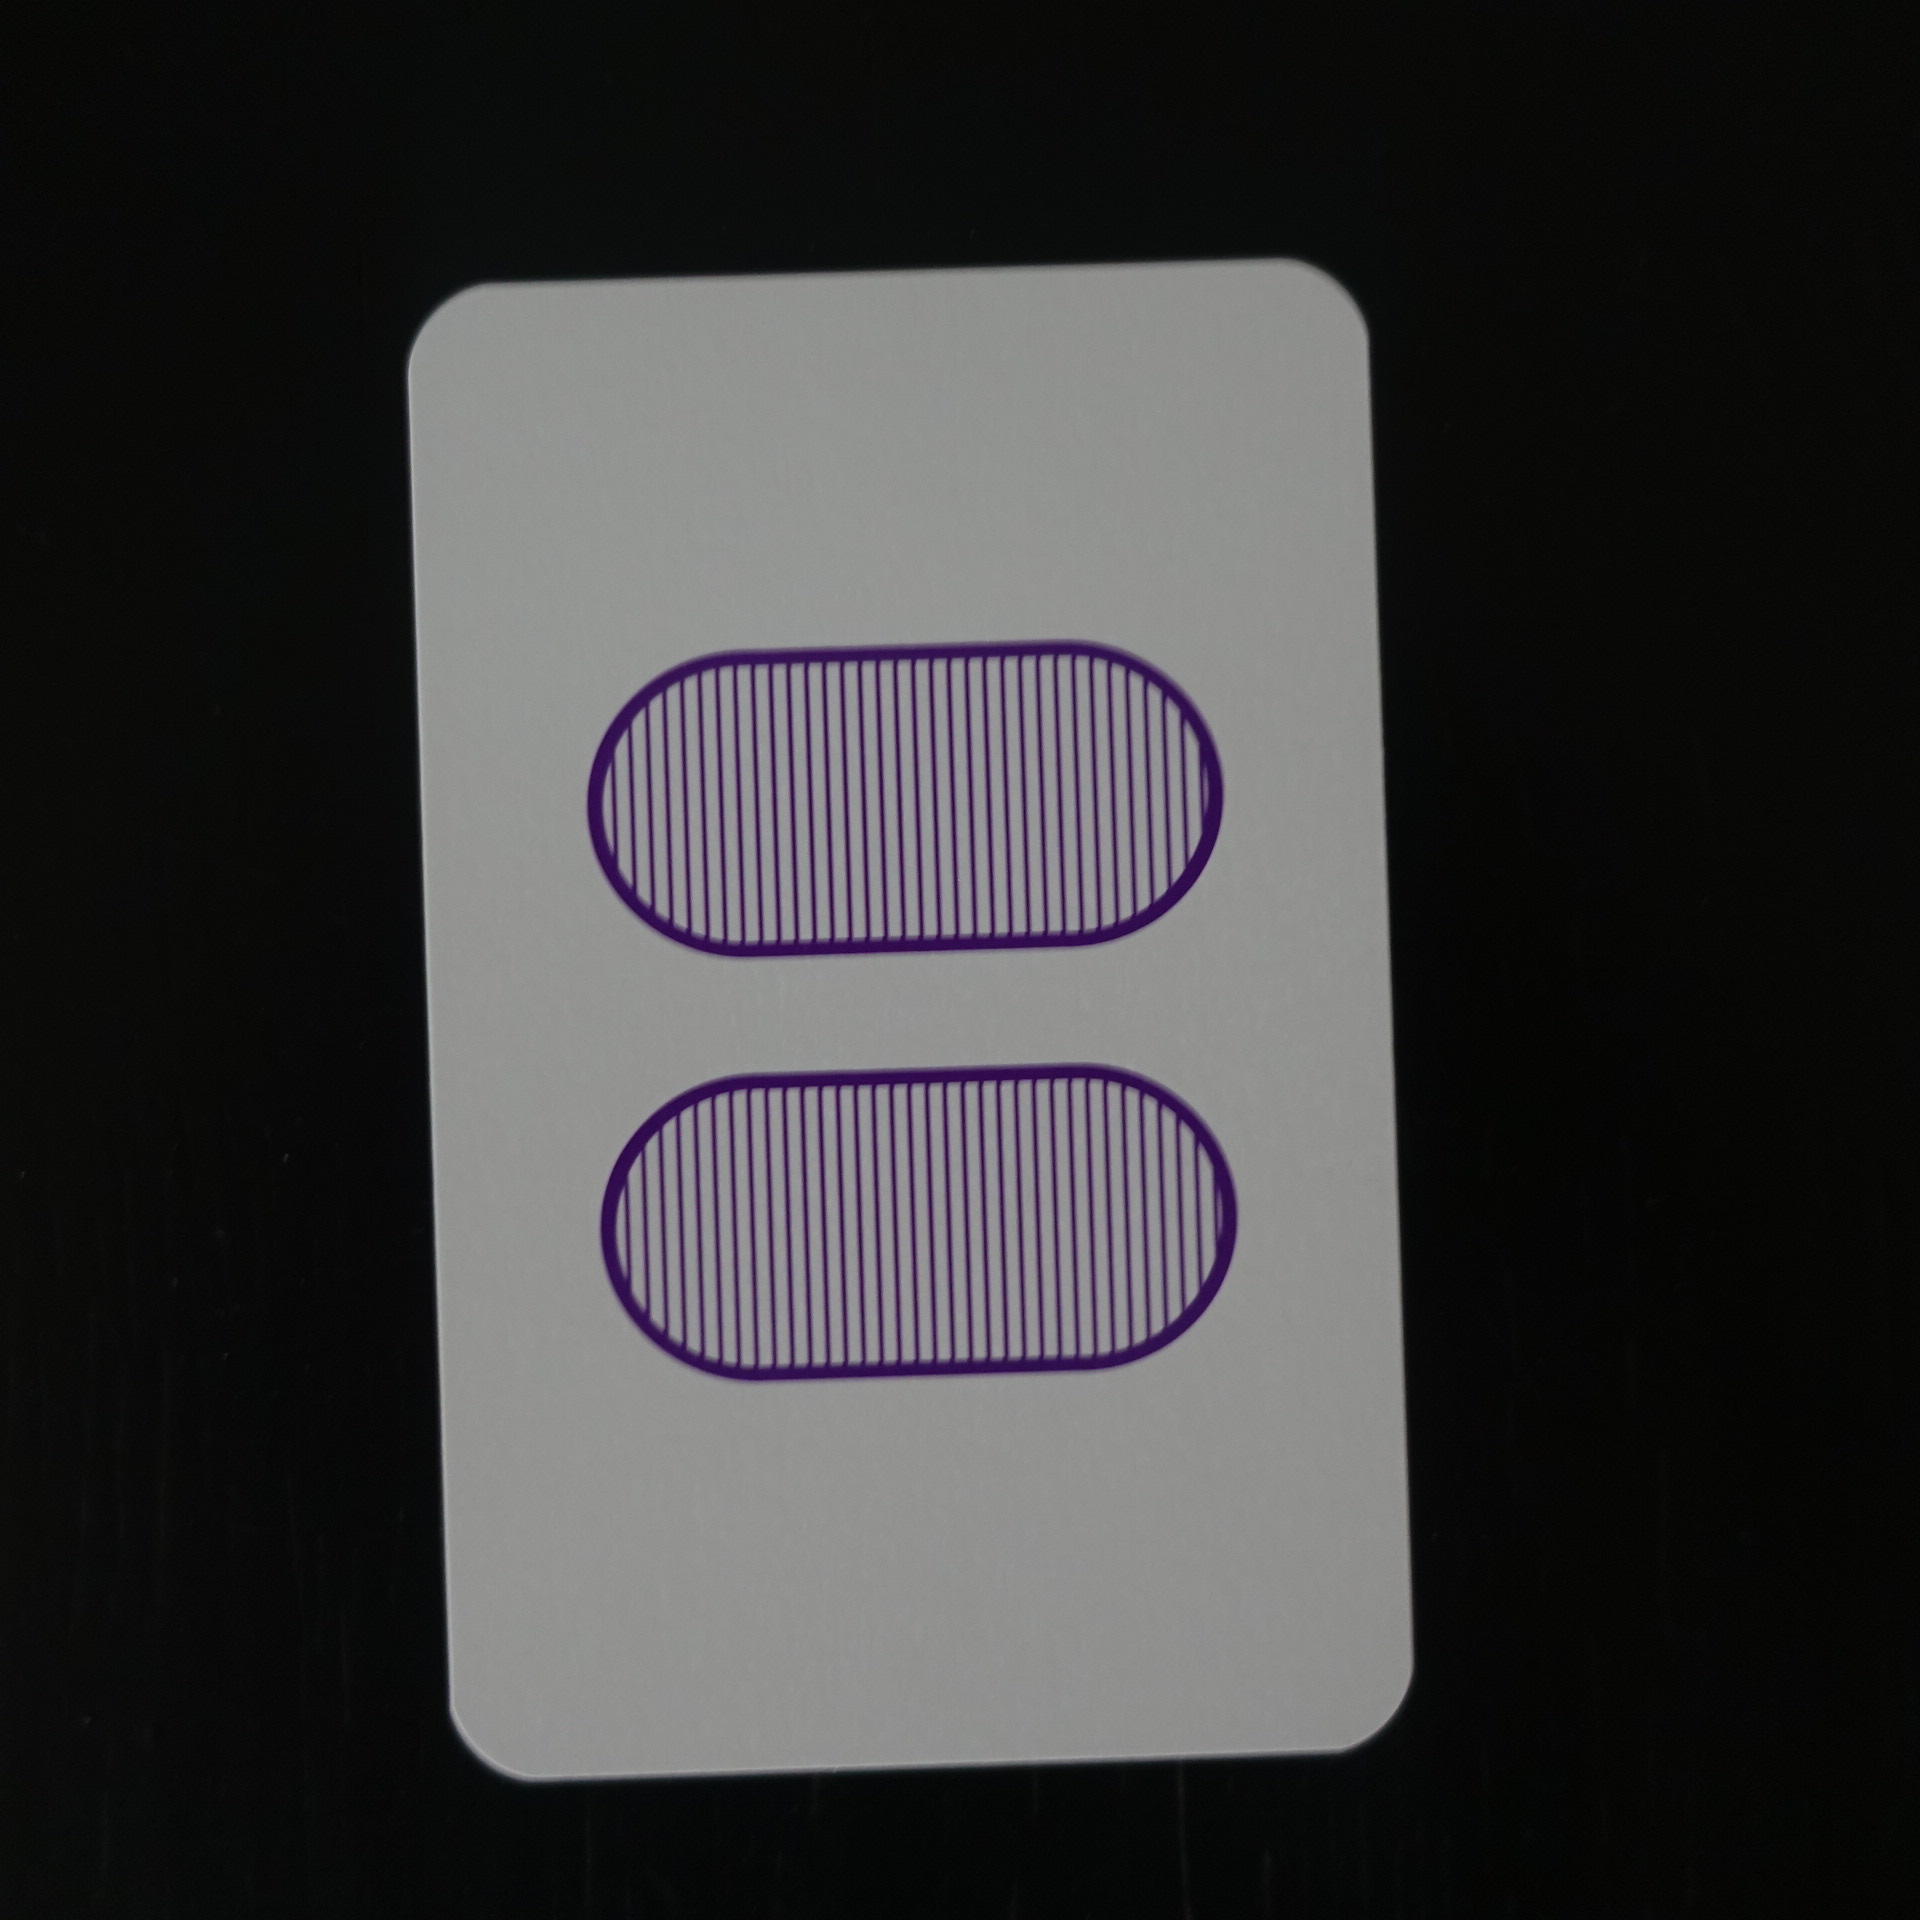c-2-h-o-r: (355, 239, 1445, 1806)
